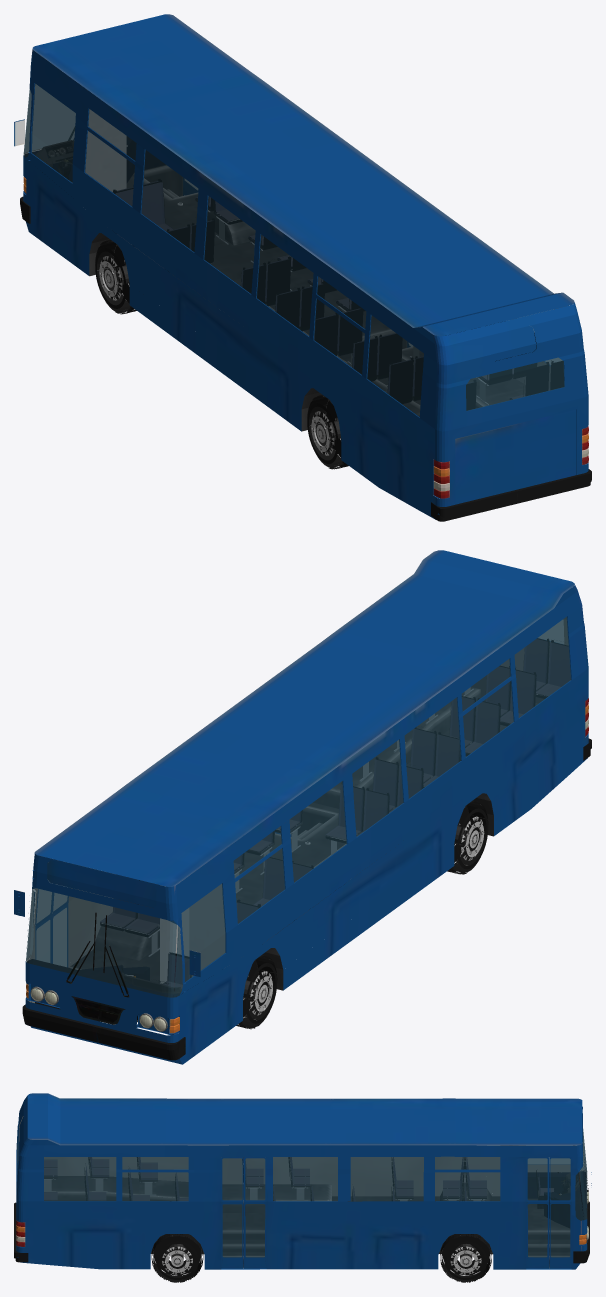
File: bus_fc497f_lod1.glb
The picture shows the model from 3 angles, top to bottom: view 1: azimuth 30°, elevation 25°; view 2: azimuth 150°, elevation 25°; view 3: azimuth 270°, elevation 25°; orthographic projection. The views are drawn at different scales.
Parts seen in each view (by area): view 1: body, wheel_fl, wheel_rl; view 2: body, wheel_rl, wheel_fl; view 3: body, wheel_fr, wheel_rr.
Boxes of the visible parts, x1,y1,x2,y2 form: body: [14, 14, 591, 521]; wheel_fl: [92, 237, 136, 314]; wheel_rl: [307, 394, 348, 469]; body: [14, 550, 591, 1064]; wheel_rl: [447, 800, 488, 874]; wheel_fl: [236, 954, 277, 1029]; body: [14, 1093, 591, 1272]; wheel_fr: [440, 1234, 491, 1282]; wheel_rr: [151, 1234, 203, 1282].
Size of the model in its own units: 2.85 by 3.27 by 12.
8 materials, 8 textured.
